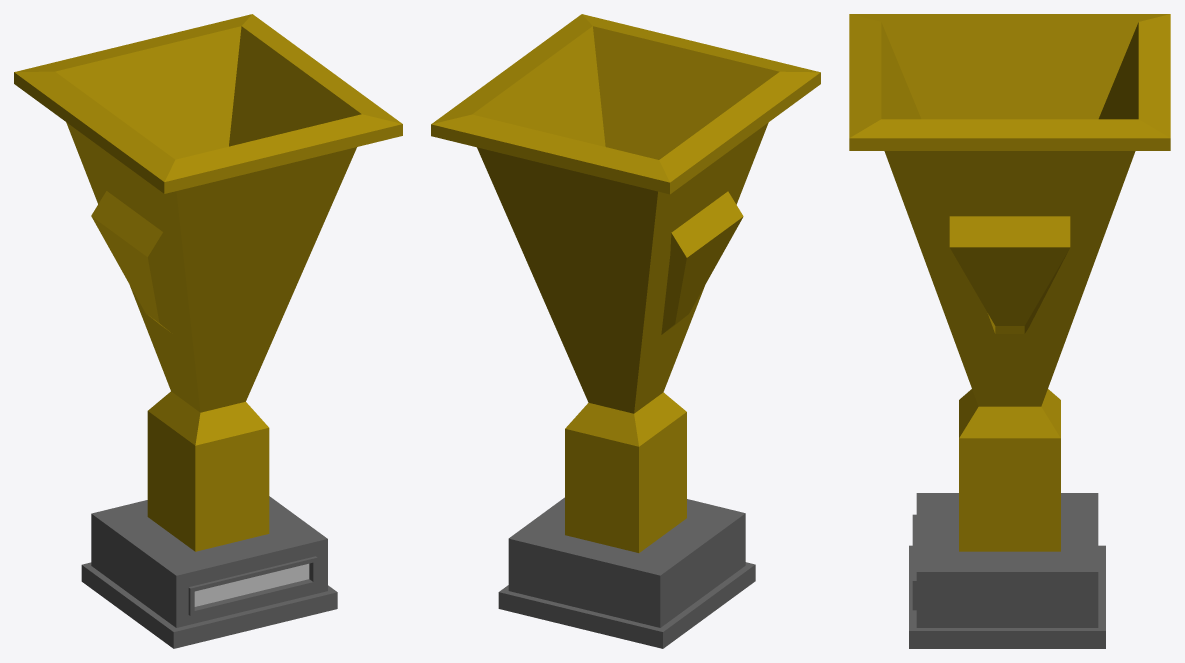
The model's file is TrophyV1.fbx.
3 views of the same model, side by side, from view 1: azimuth 30°, elevation 25°; view 2: azimuth 150°, elevation 25°; view 3: azimuth 270°, elevation 25° (orthographic). The views are drawn at different scales.
Visible parts, largest first — view 1: TrophyV1; view 2: TrophyV1; view 3: TrophyV1.
Part boxes in pixels (<box>): TrophyV1: <box>14,14,402,648</box>; TrophyV1: <box>431,14,820,648</box>; TrophyV1: <box>849,14,1170,648</box>.
Size of the model in its own units: 11.75 by 23.61 by 12.83.
